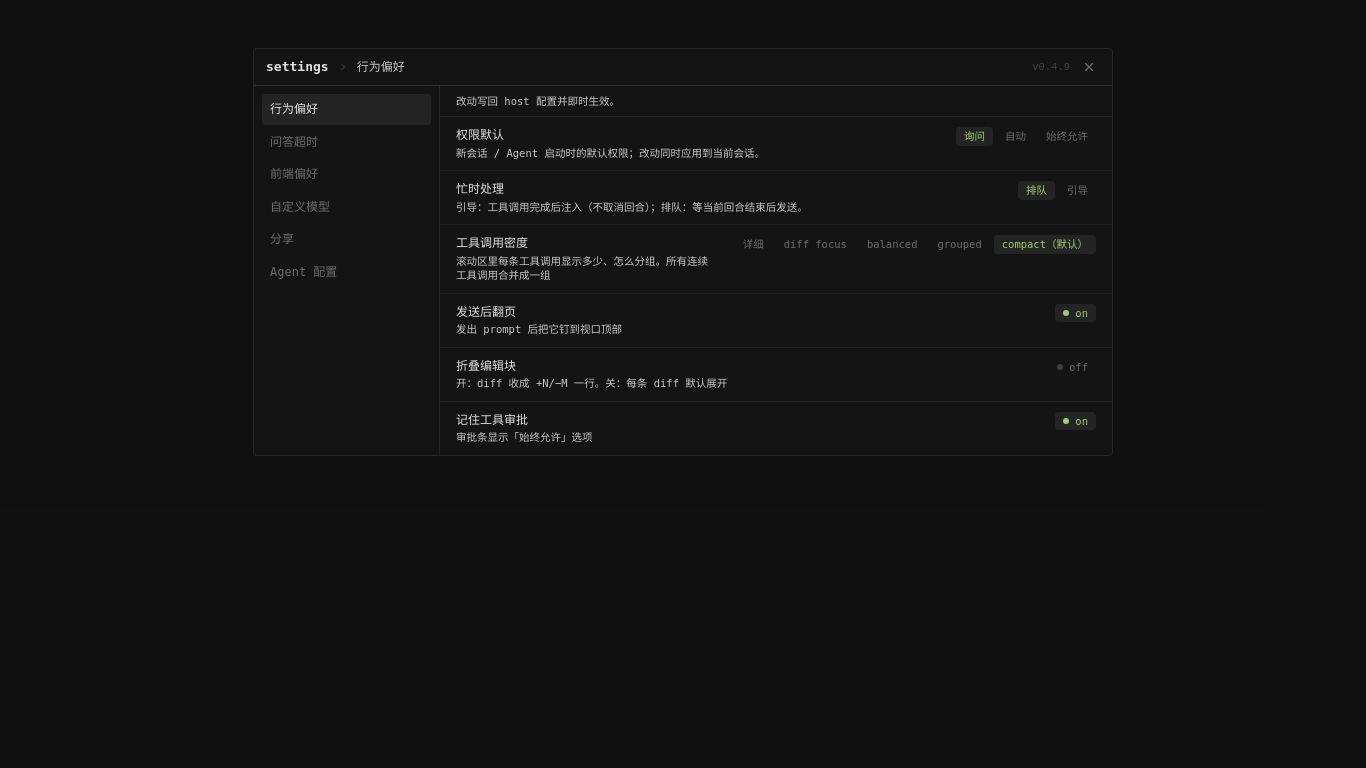
SettingsModal › 左侧分类：只渲染选中分类，只读分组汇总进「Agent 配置」一栏
Check: the text "权限默认" is shown, box [456, 128, 504, 142]
Check: the text "extra_ui_key" is not shown
Step 1. Click the tab "Agent 配置" → point(346, 272), box [262, 257, 431, 288]
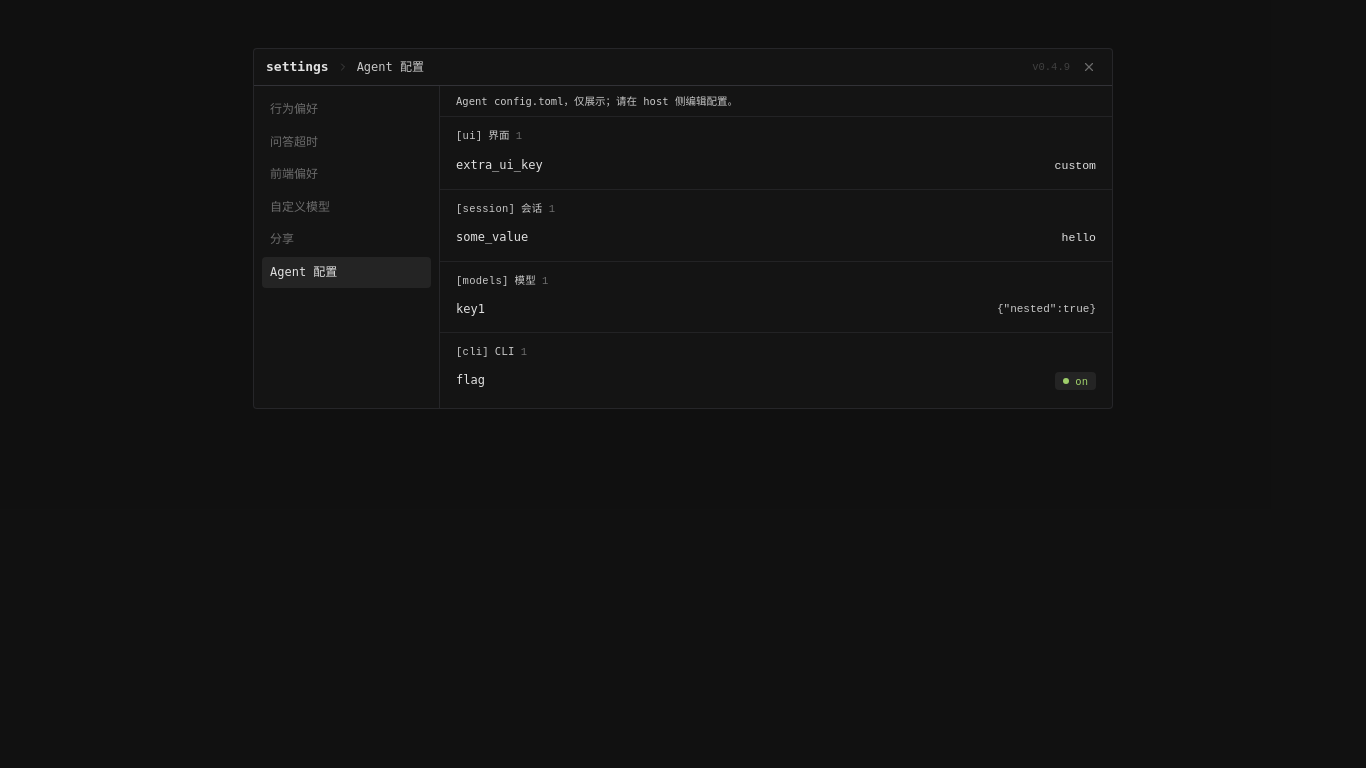
Check: the text "权限默认" is gone
Check: the text "[ui]界面1" is shown, box [456, 129, 522, 142]
Check: the text "[session]会话1" is shown, box [456, 202, 555, 214]
